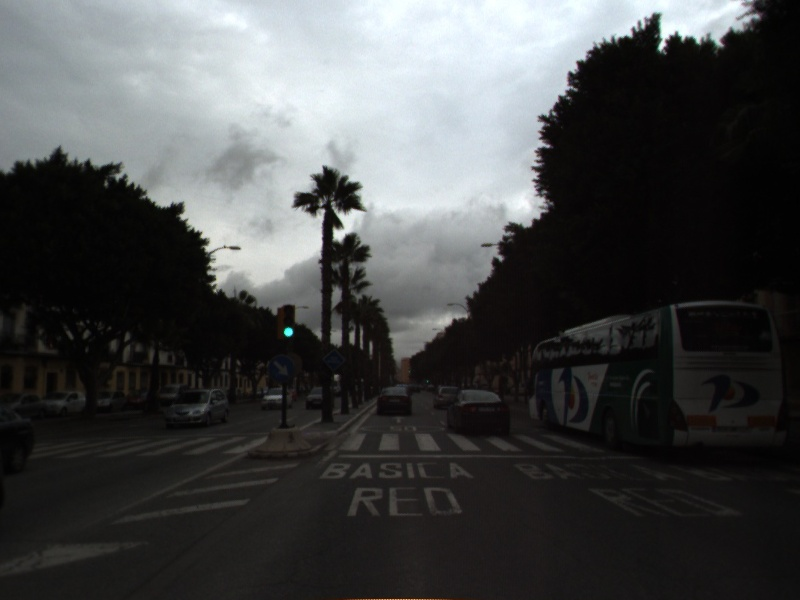STRAIGHT: (389, 413, 407, 425)
